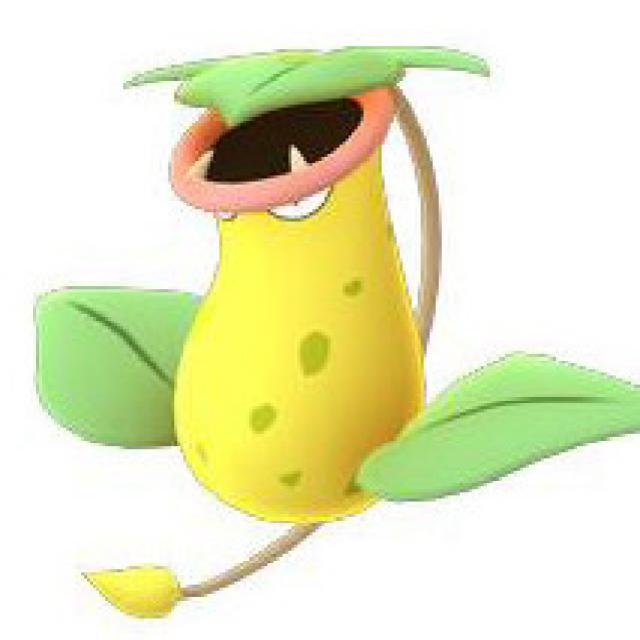Victreebel: (159, 50, 433, 527)
